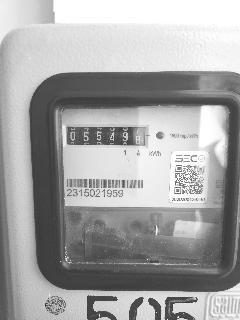1: (71, 132, 76, 141)
5: (110, 133, 115, 142)
6: (84, 133, 88, 142), (97, 132, 101, 141)
9: (136, 136, 140, 144)
:: (123, 133, 127, 142)
